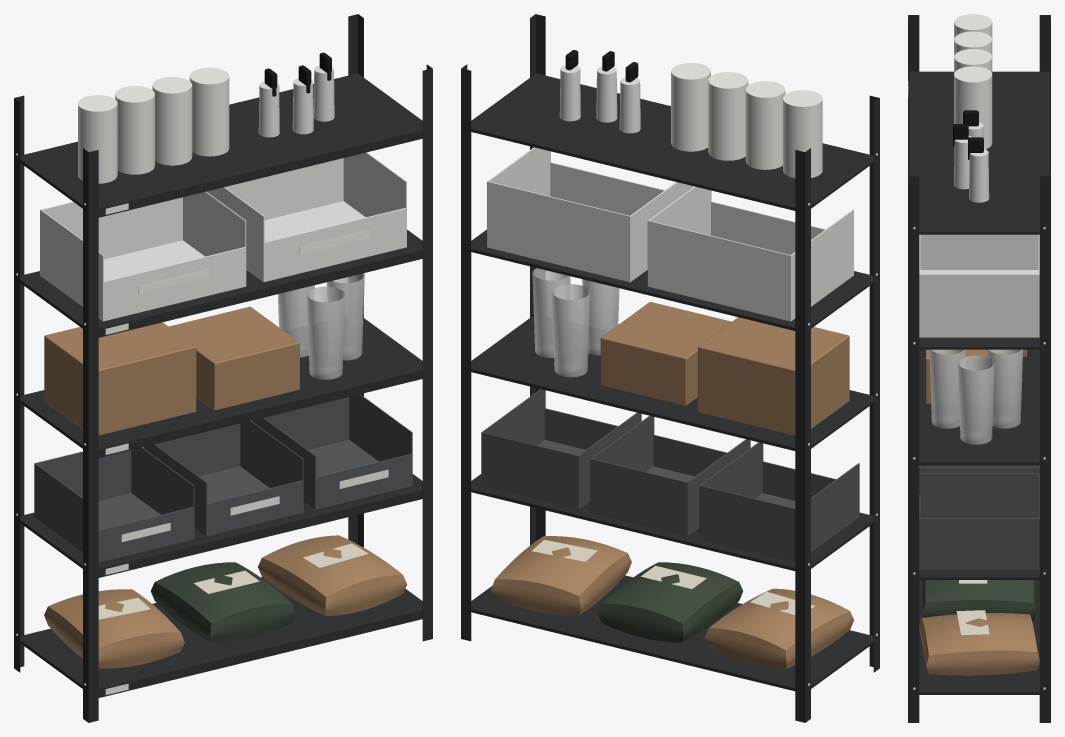
File: shelving.glb
The picture shows the model from 3 angles, left to right: view 1: azimuth 30°, elevation 25°; view 2: azimuth 150°, elevation 25°; view 3: azimuth 270°, elevation 25°; orthographic projection. The views are drawn at different scales.
Parts seen in each view (by area): view 1: shelving__steel_graphite, shelving__plastic_white, shelving__cardboard, shelving__plastic_grey, shelving__paper, shelving__sack, shelving__pp_translucent__noshadow, shelving__label, shelving__sack_label__noshadow, shelving__plastic_black; view 2: shelving__steel_graphite, shelving__plastic_white, shelving__cardboard, shelving__plastic_grey, shelving__paper, shelving__sack, shelving__pp_translucent__noshadow, shelving__sack_label__noshadow, shelving__plastic_black; view 3: shelving__steel_graphite, shelving__plastic_white, shelving__plastic_grey, shelving__pp_translucent__noshadow, shelving__cardboard, shelving__paper, shelving__sack, shelving__plastic_black, shelving__sack_label__noshadow.
Part boxes in pixels (left/top/right/bottom): shelving__steel_graphite: left=14, top=14, right=432, bottom=722; shelving__plastic_white: left=40, top=65, right=406, bottom=321; shelving__cardboard: left=44, top=306, right=407, bottom=668; shelving__plastic_grey: left=34, top=394, right=412, bottom=562; shelving__paper: left=78, top=67, right=229, bottom=183; shelving__sack: left=151, top=562, right=296, bottom=642; shelving__pp_translucent__noshadow: left=278, top=273, right=364, bottom=379; shelving__label: left=105, top=203, right=388, bottom=694; shelving__sack_label__noshadow: left=98, top=543, right=368, bottom=619; shelving__plastic_black: left=264, top=52, right=331, bottom=96; shelving__steel_graphite: left=461, top=14, right=879, bottom=722; shelving__plastic_white: left=487, top=65, right=853, bottom=321; shelving__cardboard: left=491, top=302, right=853, bottom=669; shelving__plastic_grey: left=481, top=389, right=859, bottom=562; shelving__paper: left=671, top=63, right=822, bottom=177; shelving__sack: left=597, top=562, right=742, bottom=642; shelving__pp_translucent__noshadow: left=532, top=268, right=619, bottom=377; shelving__sack_label__noshadow: left=532, top=539, right=815, bottom=614; shelving__plastic_black: left=565, top=50, right=638, bottom=82; shelving__steel_graphite: left=908, top=15, right=1050, bottom=722; shelving__plastic_white: left=919, top=122, right=1039, bottom=337; shelving__plastic_grey: left=919, top=465, right=1039, bottom=570; shelving__pp_translucent__noshadow: left=929, top=349, right=1023, bottom=444; shelving__cardboard: left=919, top=349, right=1039, bottom=675; shelving__paper: left=954, top=14, right=992, bottom=149; shelving__sack: left=922, top=580, right=1036, bottom=621; shelving__plastic_black: left=953, top=110, right=983, bottom=159; shelving__sack_label__noshadow: left=956, top=580, right=989, bottom=635.
Bounding box in the file's own units: 1.21 × 1.95 × 0.45.
